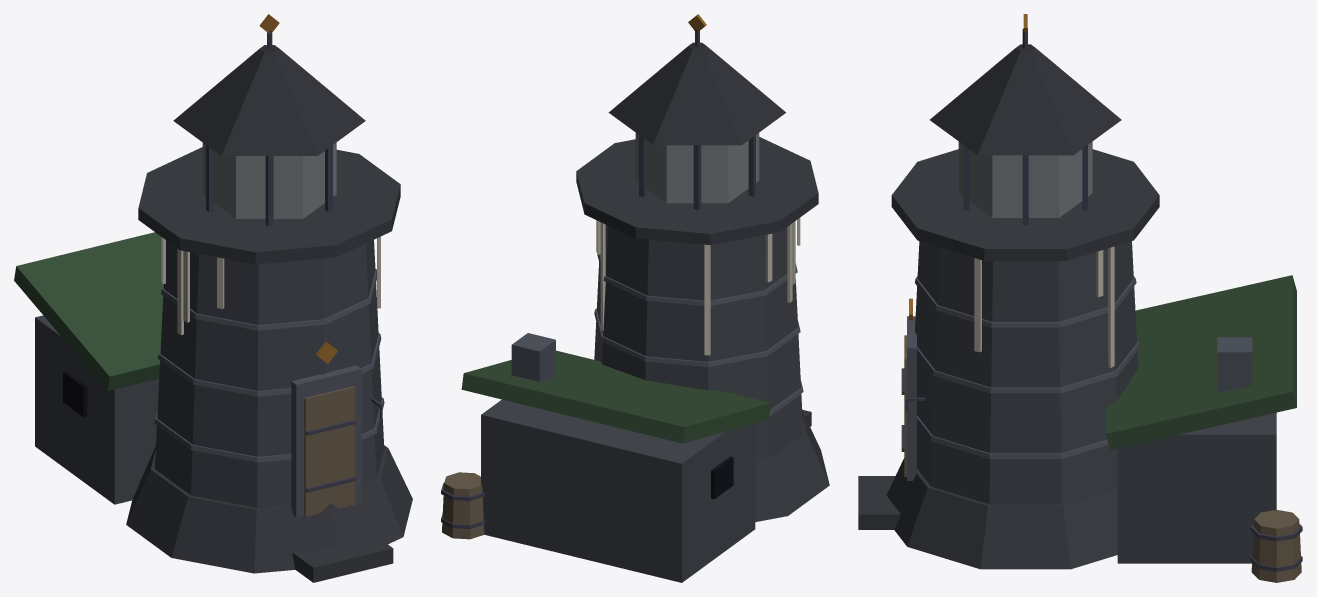
Rendered from lowsong_light.glb.
The picture shows the model from 3 angles, left to right: view 1: azimuth 30°, elevation 25°; view 2: azimuth 150°, elevation 25°; view 3: azimuth 270°, elevation 25°; orthographic projection. The views are drawn at different scales.
Visible parts, largest first — view 1: slate_d42, slate_d52, moss_d45, slate_d60, slate_d30, silverfog_d40, driftwood_d50, ink_l15, bone_d20, ink_d50; view 2: slate_d42, slate_d52, moss_d45, slate_d60, silverfog_d40, slate_d30, bone_d20, driftwood_d50, ink_l15, ink_d50; view 3: slate_d42, slate_d52, moss_d45, slate_d60, slate_d30, silverfog_d40, driftwood_d50, ink_l15, bone_d20.
Boxes of the visible parts, left/top/right/bottom form: slate_d42: left=35, top=240, right=384, bottom=507; slate_d52: left=126, top=147, right=412, bottom=582; moss_d45: left=14, top=232, right=163, bottom=391; slate_d60: left=173, top=45, right=365, bottom=155; slate_d30: left=154, top=268, right=384, bottom=517; silverfog_d40: left=202, top=142, right=336, bottom=218; driftwood_d50: left=304, top=386, right=354, bottom=516; ink_l15: left=206, top=30, right=382, bottom=492; bone_d20: left=161, top=236, right=380, bottom=335; ink_d50: left=63, top=371, right=87, bottom=417; slate_d42: left=481, top=225, right=803, bottom=582; slate_d52: left=576, top=137, right=829, bottom=521; moss_d45: left=461, top=350, right=770, bottom=443; slate_d60: left=608, top=42, right=785, bottom=145; silverfog_d40: left=635, top=133, right=759, bottom=203; slate_d30: left=511, top=254, right=803, bottom=416; bone_d20: left=596, top=218, right=800, bottom=355; driftwood_d50: left=442, top=472, right=484, bottom=539; ink_l15: left=441, top=29, right=755, bottom=528; ink_d50: left=711, top=456, right=733, bottom=499; slate_d42: left=915, top=241, right=1276, bottom=563; slate_d52: left=858, top=149, right=1159, bottom=569; moss_d45: left=1105, top=275, right=1296, bottom=449; slate_d60: left=930, top=44, right=1121, bottom=155; slate_d30: left=907, top=276, right=1252, bottom=480; silverfog_d40: left=958, top=141, right=1092, bottom=217; driftwood_d50: left=904, top=335, right=1301, bottom=582; ink_l15: left=901, top=28, right=1302, bottom=571; bone_d20: left=974, top=246, right=1114, bottom=367.
Bounding box in the file's own units: 3.72 × 6.55 × 5.31.
